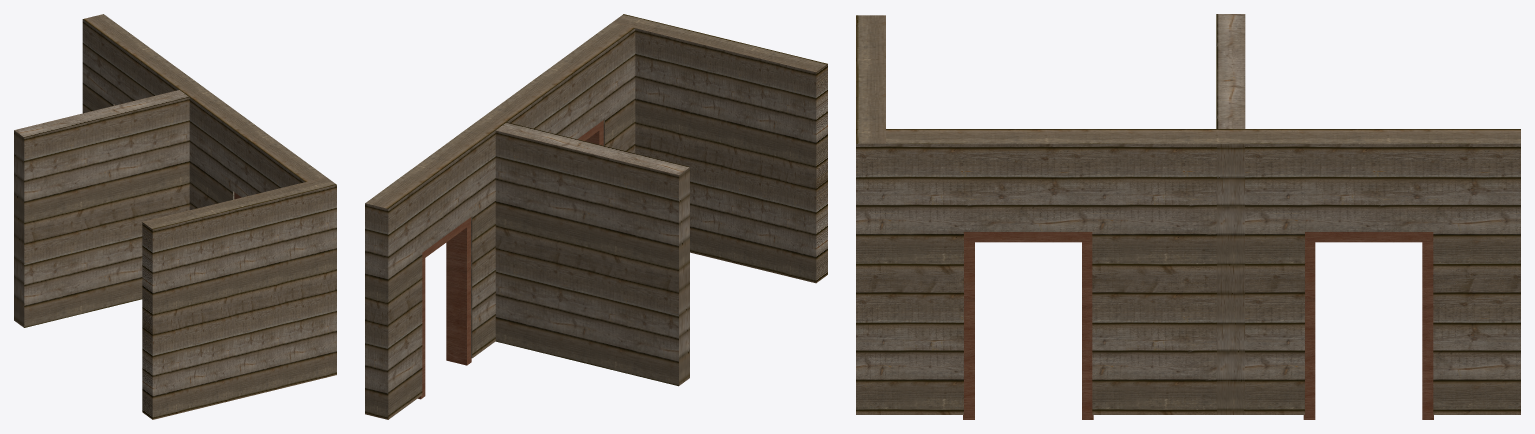
File: tengah.fbx
3 views of the same model, side by side, from view 1: azimuth 30°, elevation 25°; view 2: azimuth 150°, elevation 25°; view 3: azimuth 270°, elevation 25° (orthographic). The views are drawn at different scales.
Visible parts, largest first — view 1: Pintu_P.002; view 2: Pintu_P.002; view 3: Pintu_P.002.
Part boxes in pixels (x1=…): Pintu_P.002: x1=14, y1=14, x2=336, y2=419; Pintu_P.002: x1=365, y1=14, x2=827, y2=419; Pintu_P.002: x1=856, y1=14, x2=1520, y2=419.
Bounding box in the file's own units: 717 × 715 × 1554.
2 materials, 2 textured.
